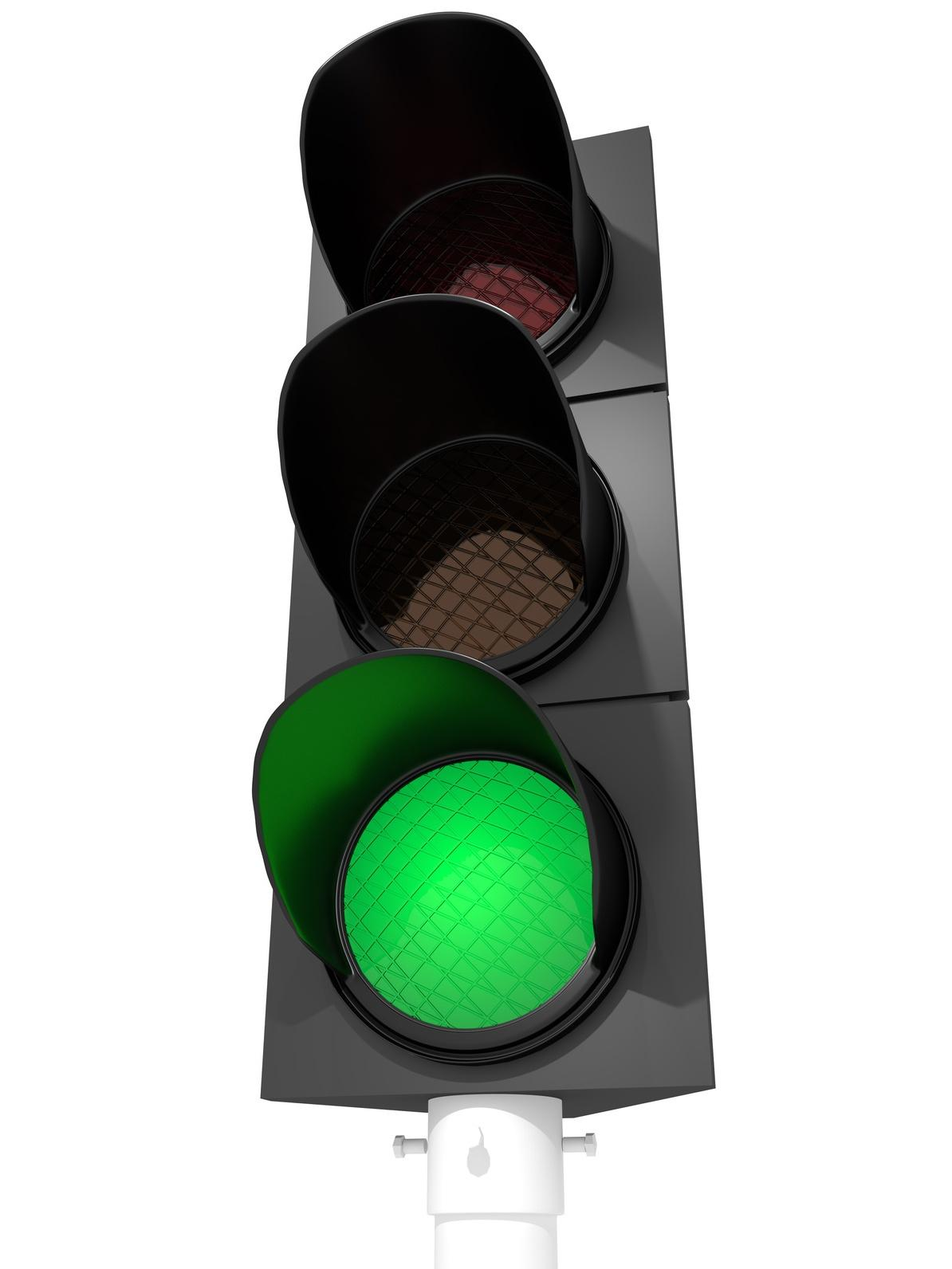Traffic light green: (199, 8, 773, 1072)
